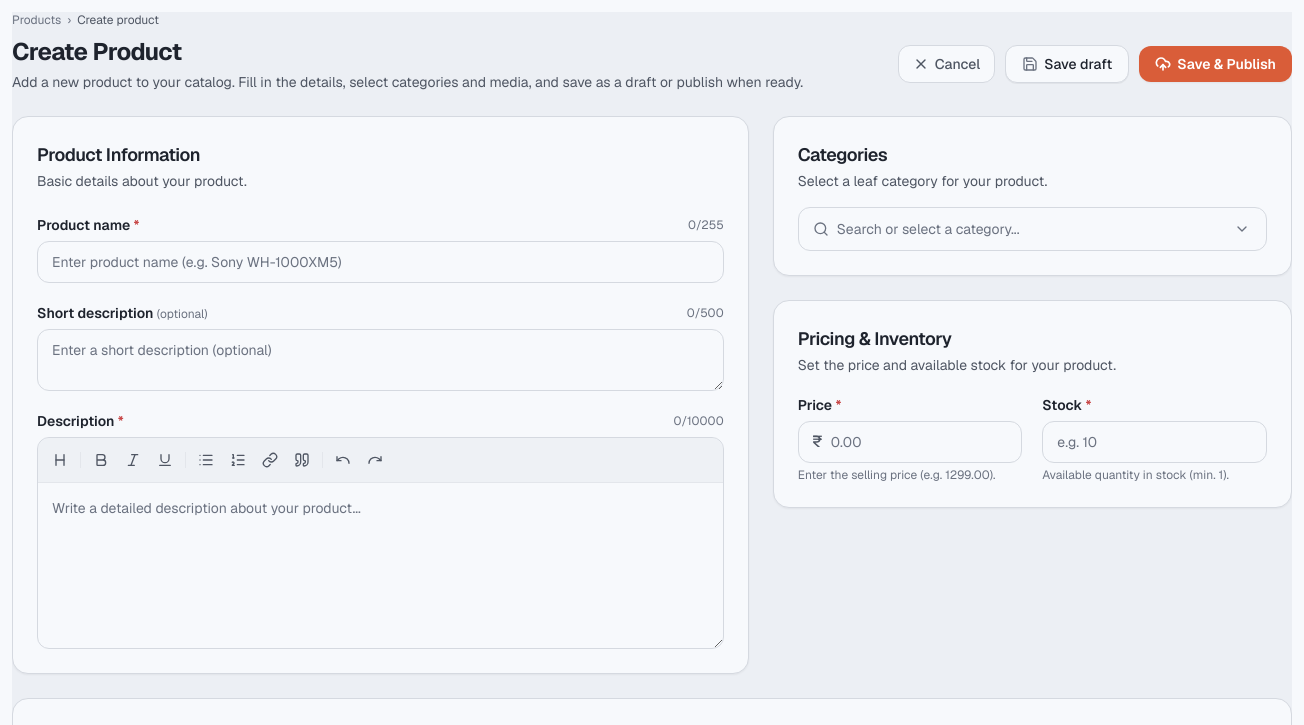
Test: ProductForm Component › Create Mode › shows validation errors when submitting with empty required fields
The image size is (1304, 725).
Click the button "Save draft". click: [1067, 64]
box: [1005,45,1129,83]
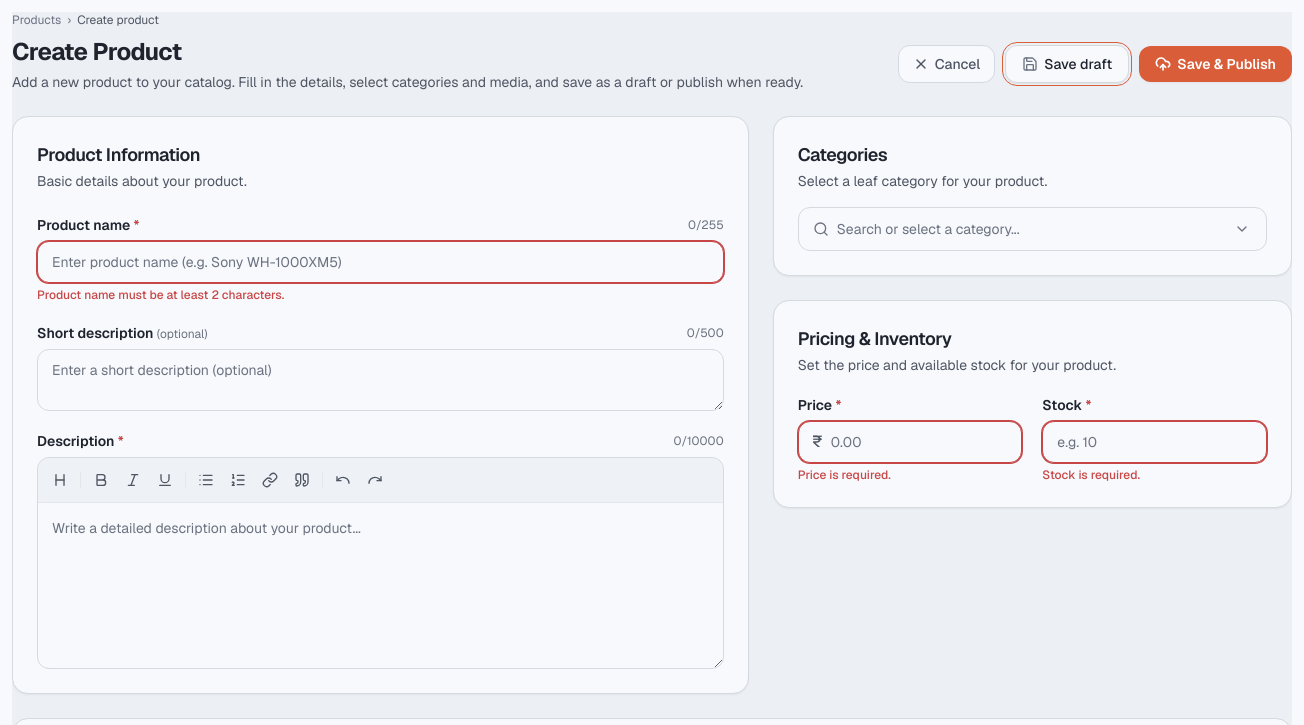
Expected: the text "Product name must be at least 2 characters." is shown, [37,287,284,303]
Expected: the text "Price is required." is shown, [798,467,891,483]
Expected: the text "Stock is required." is shown, [1042,467,1140,483]
